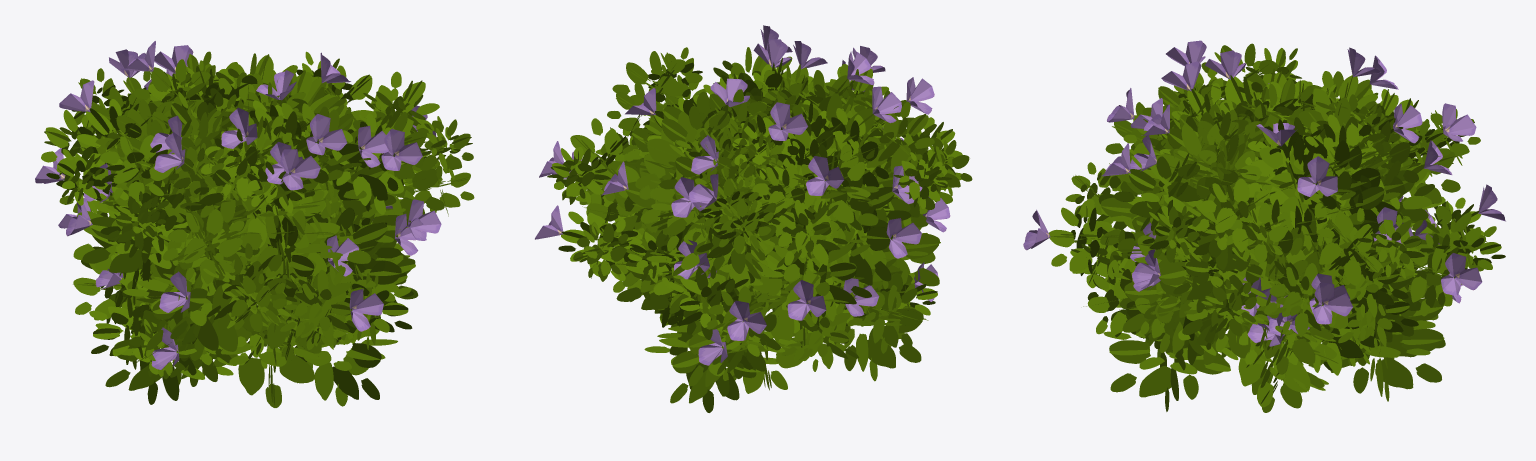
File: FloweringBush.obj
The picture shows the model from 3 angles, left to right: view 1: azimuth 30°, elevation 25°; view 2: azimuth 150°, elevation 25°; view 3: azimuth 270°, elevation 25°; orthographic projection. The views are drawn at different scales.
Parts seen in each view (by area): view 1: Bush_Common_Flowers, Bush_Common_Flowers_1; view 2: Bush_Common_Flowers, Bush_Common_Flowers_1; view 3: Bush_Common_Flowers, Bush_Common_Flowers_1.
Boxes of the visible parts, x1,y1,x2,y2 form: Bush_Common_Flowers: (41,51,474,407); Bush_Common_Flowers_1: (35,41,441,369); Bush_Common_Flowers: (547,47,972,412); Bush_Common_Flowers_1: (535,25,950,365); Bush_Common_Flowers: (1049,43,1505,412); Bush_Common_Flowers_1: (1023,40,1505,346).
Bounding box in the file's own units: 1.91 × 1.58 × 1.97.
Materials: 2 (2 with a texture image).
